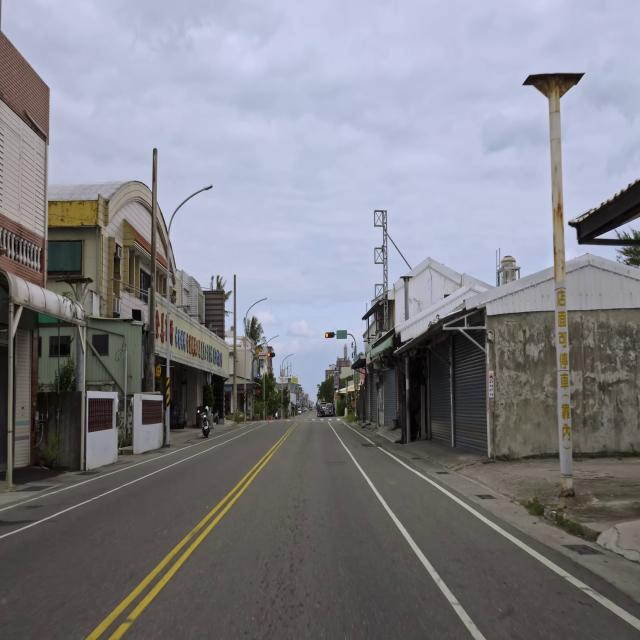red light: (325, 332, 335, 338), (268, 352, 276, 358)
